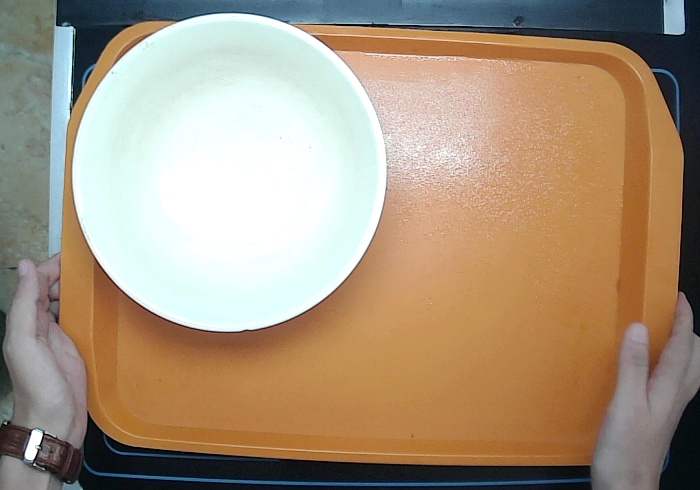ZNLD-Da_Tang_Wan: (70, 11, 390, 335)
